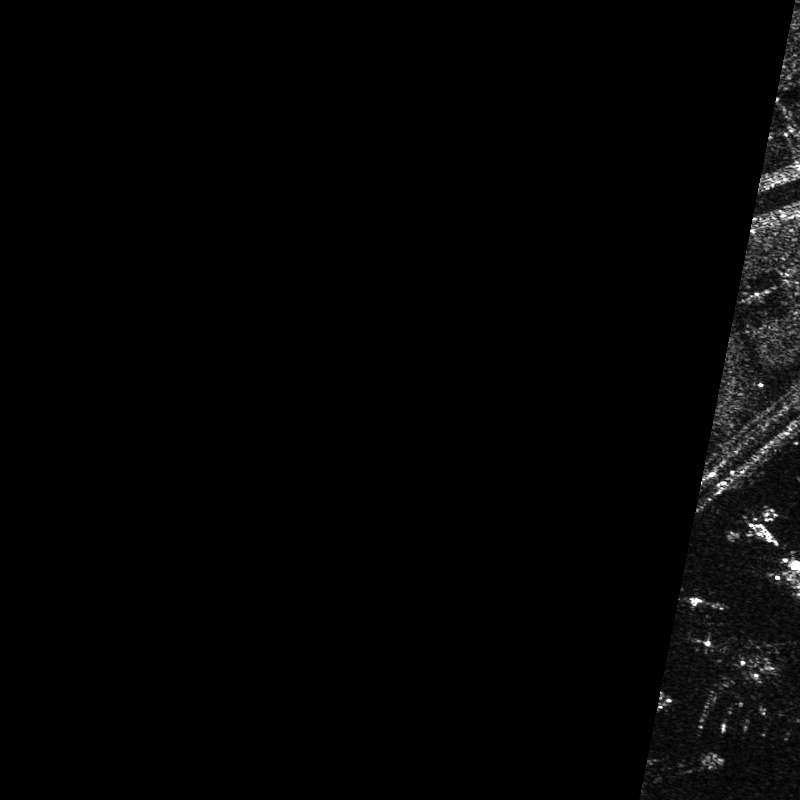Boeing787: (687, 617, 799, 755)
